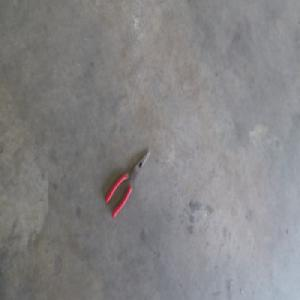Pliers: (103, 148, 149, 218)
